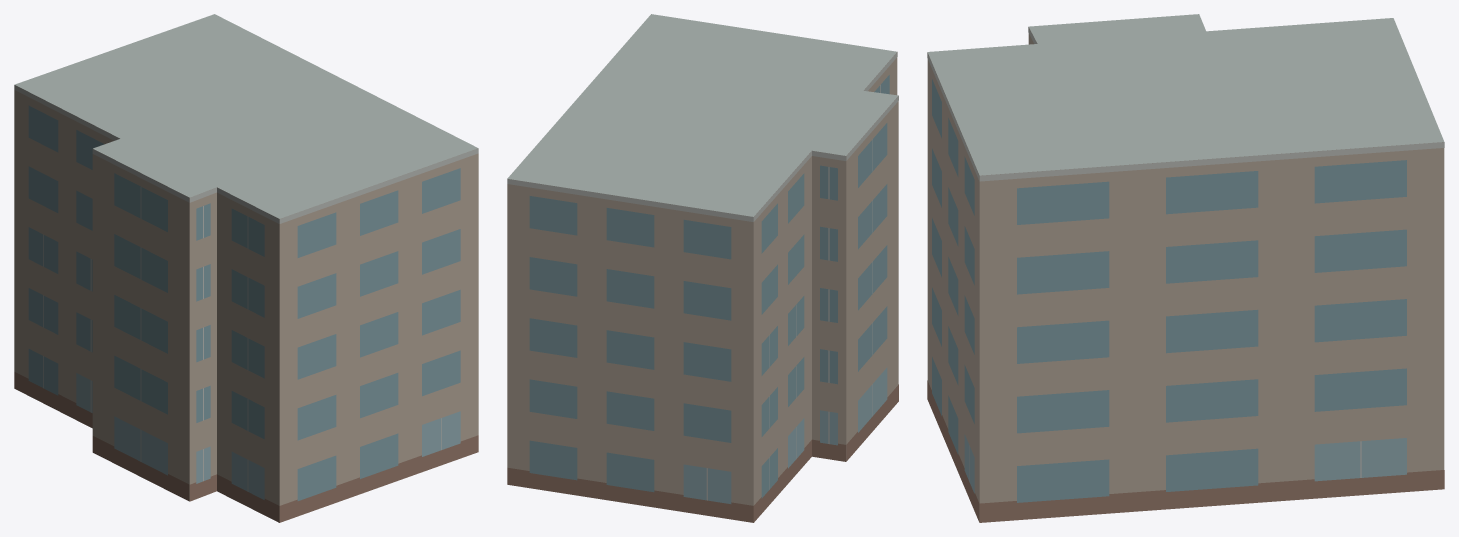
The model's file is survey-upis-32716263.glb.
The picture shows the model from 3 angles, left to right: view 1: azimuth 30°, elevation 25°; view 2: azimuth 150°, elevation 25°; view 3: azimuth 270°, elevation 25°; orthographic projection. The views are drawn at different scales.
Parts seen in each view (by area): view 1: survey-upis-32716263.tmp; view 2: survey-upis-32716263.tmp; view 3: survey-upis-32716263.tmp.
Boxes of the visible parts, left/top/right/bottom form: survey-upis-32716263.tmp: left=14, top=14, right=478, bottom=522; survey-upis-32716263.tmp: left=507, top=14, right=898, bottom=522; survey-upis-32716263.tmp: left=927, top=14, right=1444, bottom=522.
Size of the model in its own units: 14.28 by 14.3 by 19.31.
